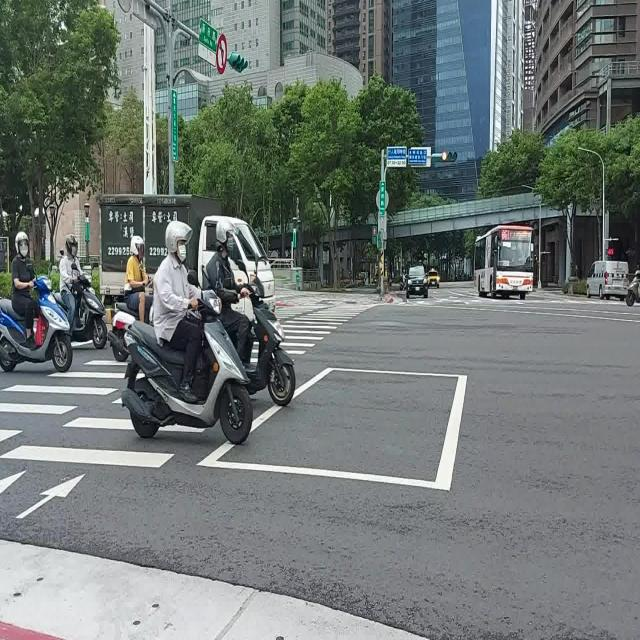bus: (475, 222, 534, 297)
car: (585, 260, 629, 299), (404, 263, 428, 299), (427, 268, 440, 288)
crosswalk: (0, 395, 177, 468), (0, 359, 126, 443), (283, 302, 375, 356), (277, 303, 330, 320)
motocycle: (122, 291, 252, 443), (0, 276, 72, 371), (245, 276, 295, 407), (72, 271, 108, 349), (626, 269, 640, 307)
trunk: (99, 196, 220, 297), (229, 218, 275, 311)
